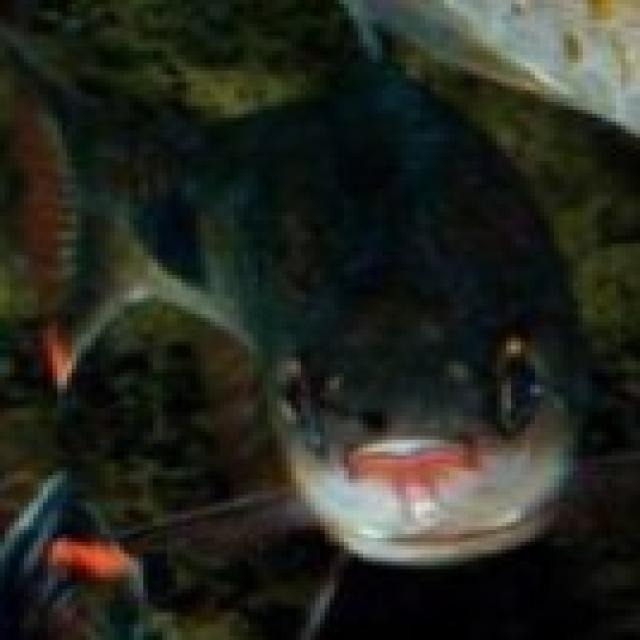Black-Spotted-Barb: (4, 20, 611, 579)
